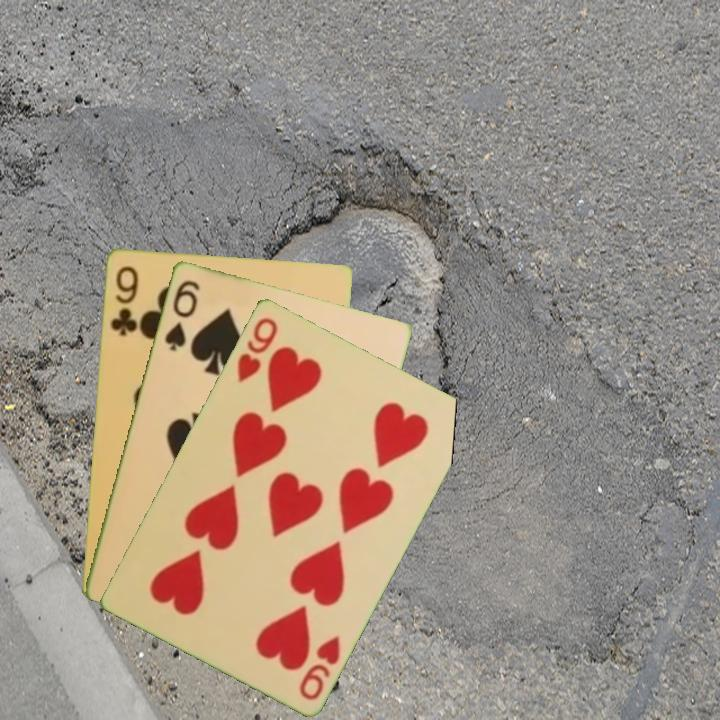6s: (160, 276, 203, 354)
9c: (106, 262, 141, 339)
9h: (233, 313, 281, 385), (295, 631, 343, 703)
